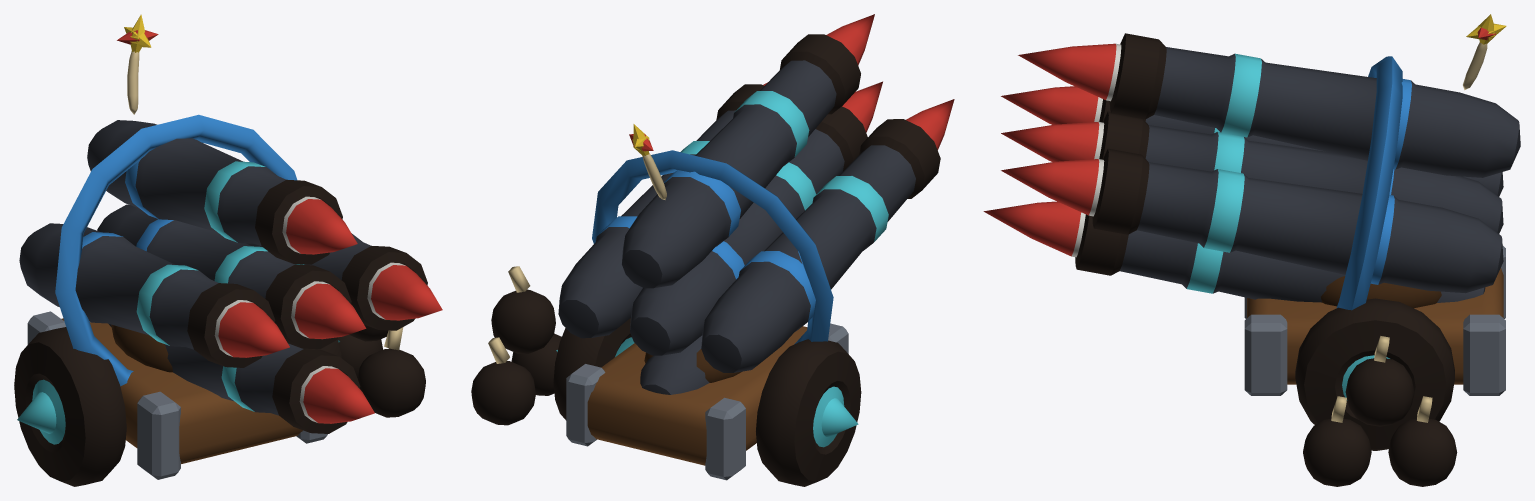
The picture shows the model from 3 angles, left to right: view 1: azimuth 30°, elevation 25°; view 2: azimuth 150°, elevation 25°; view 3: azimuth 270°, elevation 25°; orthographic projection. The views are drawn at different scales.
Visible parts, largest first — view 1: bomba_1_torreta, bomba_0_base; view 2: bomba_1_torreta, bomba_0_base; view 3: bomba_1_torreta, bomba_0_base.
Boxes of the visible parts, <box> form: bomba_1_torreta: <box>19,14,442,433</box>; bomba_0_base: <box>14,311,425,486</box>; bomba_1_torreta: <box>558,14,954,394</box>; bomba_0_base: <box>471,266,861,486</box>; bomba_1_torreta: <box>983,14,1520,310</box>; bomba_0_base: <box>1244,245,1505,486</box>.
Bounding box in the file's own units: 0.9344 × 0.907 × 1.13.
